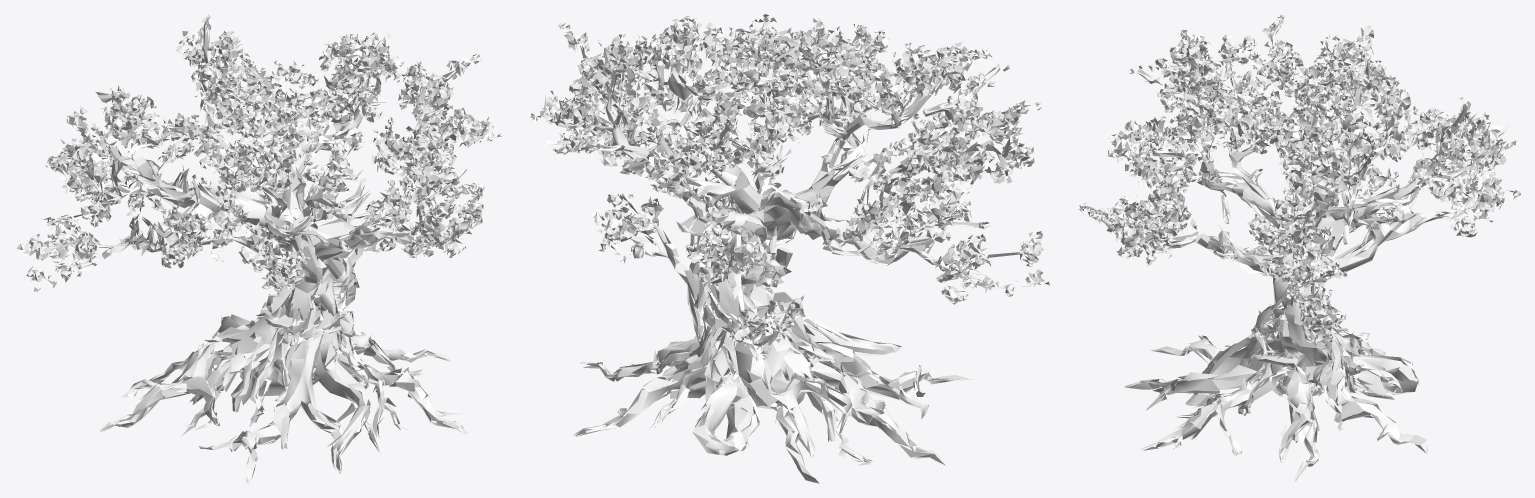
The model's file is sakura_great_lod1.glb.
The picture shows the model from 3 angles, left to right: view 1: azimuth 30°, elevation 25°; view 2: azimuth 150°, elevation 25°; view 3: azimuth 270°, elevation 25°; orthographic projection. The views are drawn at different scales.
Visible parts, largest first — view 1: Mesh_0; view 2: Mesh_0; view 3: Mesh_0.
Part boxes in pixels (left/top/right/bottom): Mesh_0: left=14, top=14, right=501, bottom=483; Mesh_0: left=530, top=14, right=1049, bottom=483; Mesh_0: left=1079, top=14, right=1520, bottom=482.
Size of the model in its own units: 11.48 by 8.5 by 9.62.
1 material, 1 textured.
